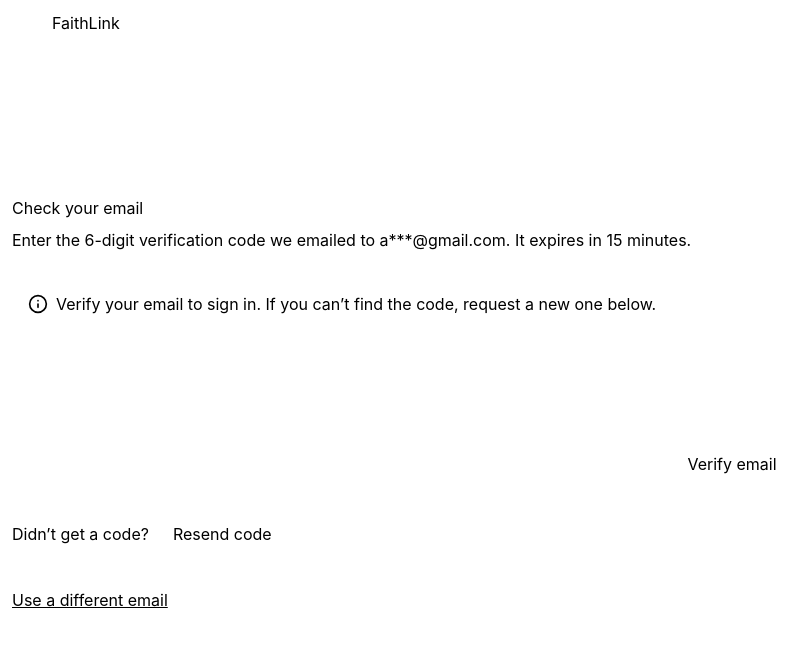
Test case: Verify email page › confirms when a new code was sent
Click the button "Resend code" at (222, 534), box [157,516,288,552]
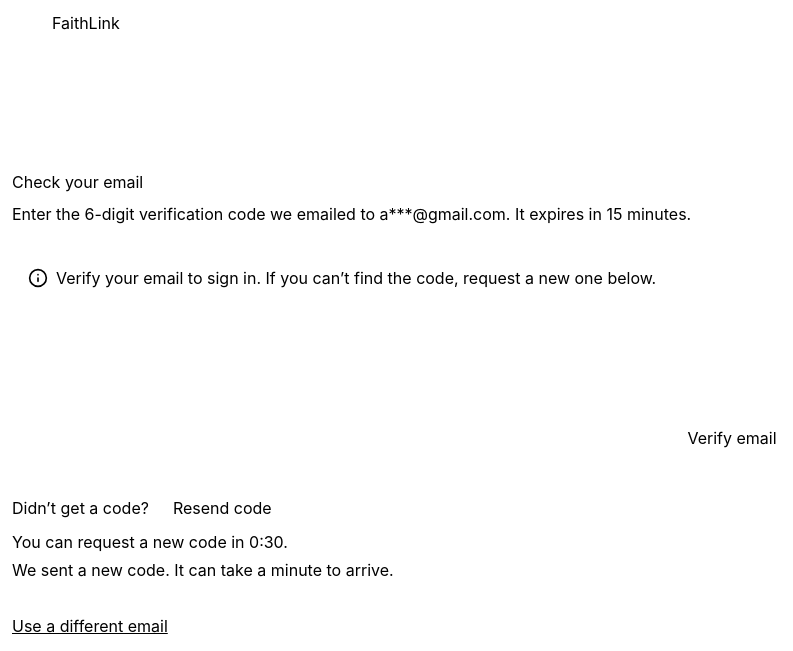
Check: the text "We sent a new code. It can take a minute to arrive." is shown, box [12,560,394,580]
